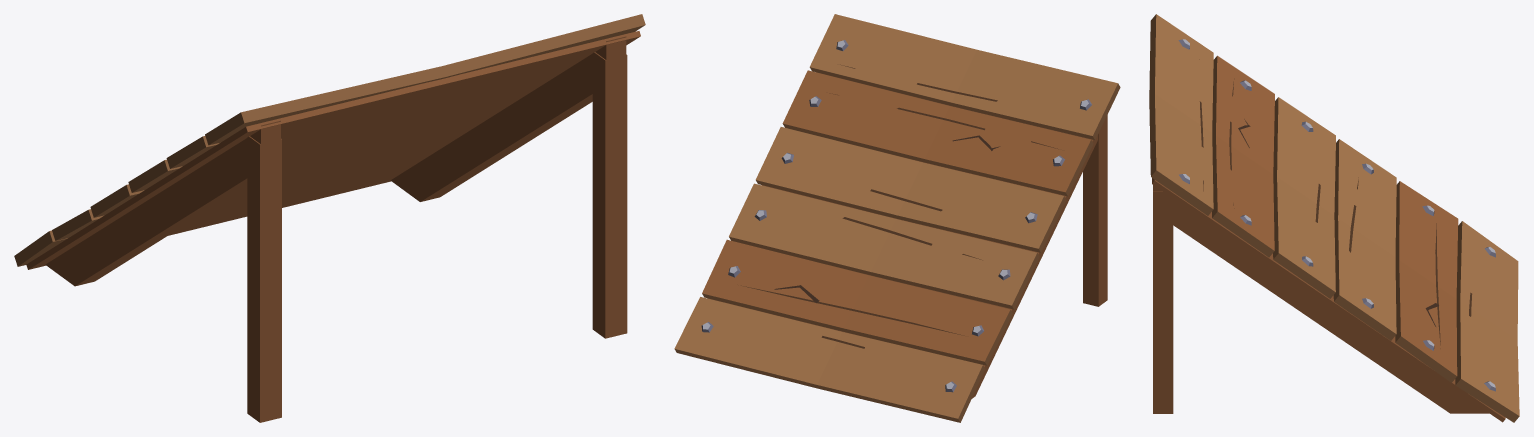
File: ramp_plank_crack1.glb
The picture shows the model from 3 angles, left to right: view 1: azimuth 30°, elevation 25°; view 2: azimuth 150°, elevation 25°; view 3: azimuth 270°, elevation 25°; orthographic projection. The views are drawn at different scales.
Visible parts, largest first — view 1: Body; view 2: Body; view 3: Body.
Boxes of the visible parts, x1,y1,x2,y2 form: Body: (14,14,645,422); Body: (674,14,1120,422); Body: (1149,14,1519,422).
Size of the model in its own units: 4 by 3.04 by 4.
